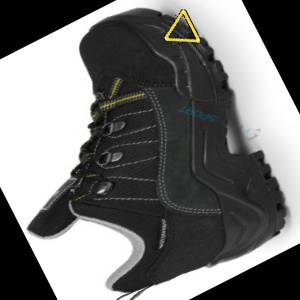triangle: (162, 7, 201, 47)
